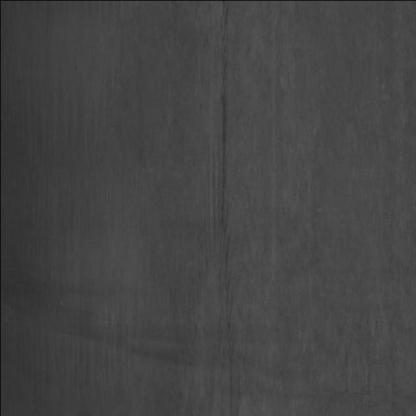water_spot: (212, 11, 238, 356)
